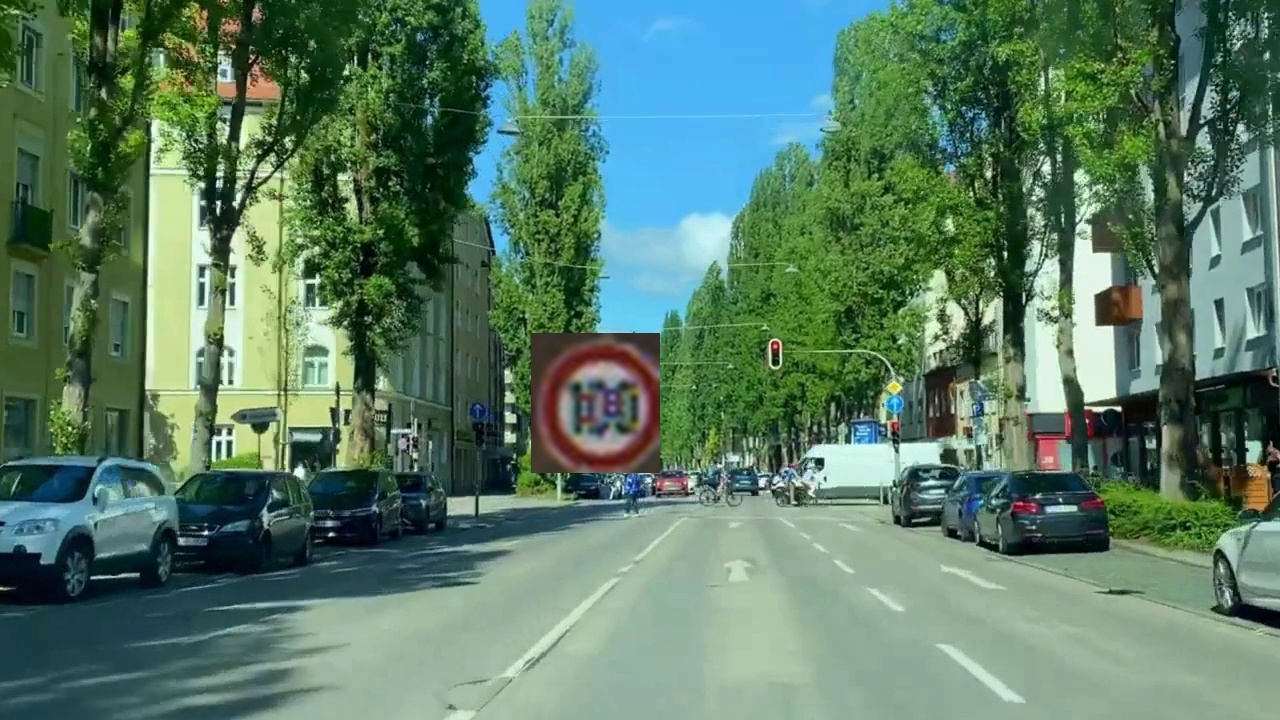Speed 100: (531, 333, 660, 473)
